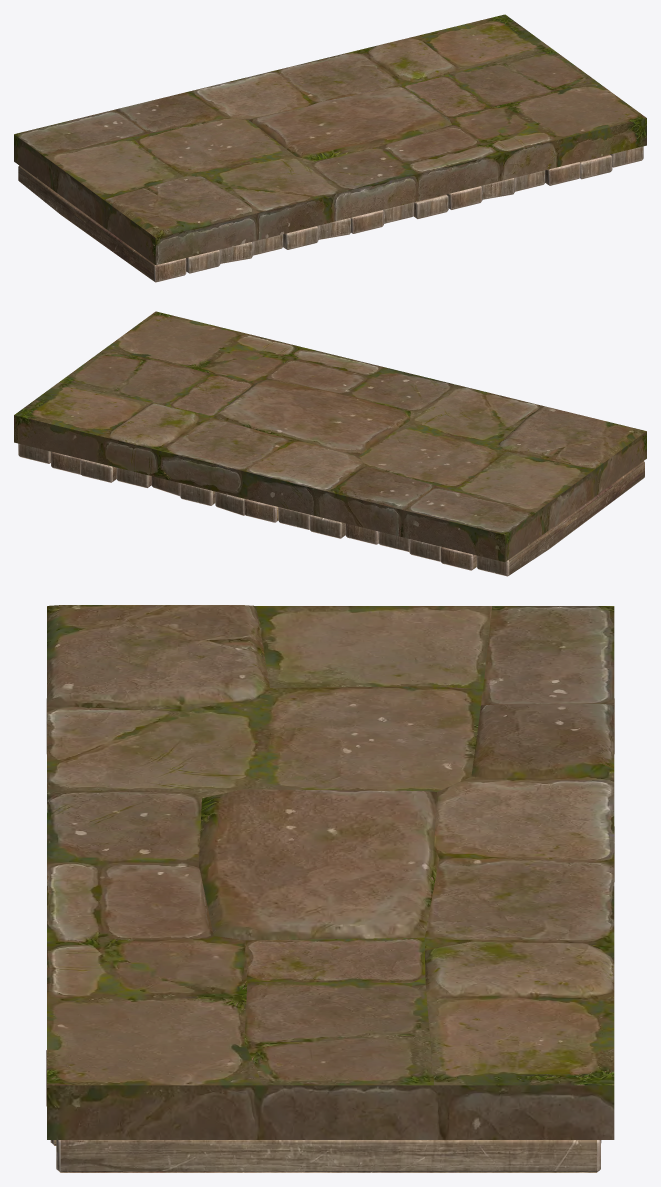
3 views of the same model, one above another, from view 1: azimuth 30°, elevation 25°; view 2: azimuth 150°, elevation 25°; view 3: azimuth 270°, elevation 25° (orthographic). The views are drawn at different scales.
Parts seen in each view (by area): view 1: SM_Human_Ruins_Floor_04_LOD0; view 2: SM_Human_Ruins_Floor_04_LOD0; view 3: SM_Human_Ruins_Floor_04_LOD0.
Boxes of the visible parts, box(x1,y1,x2,y2) form: SM_Human_Ruins_Floor_04_LOD0: box(14, 14, 646, 282); SM_Human_Ruins_Floor_04_LOD0: box(14, 311, 646, 576); SM_Human_Ruins_Floor_04_LOD0: box(46, 605, 614, 1172).
Size of the model in its own units: 4 by 0.4264 by 2.
2 materials, 2 textured.
